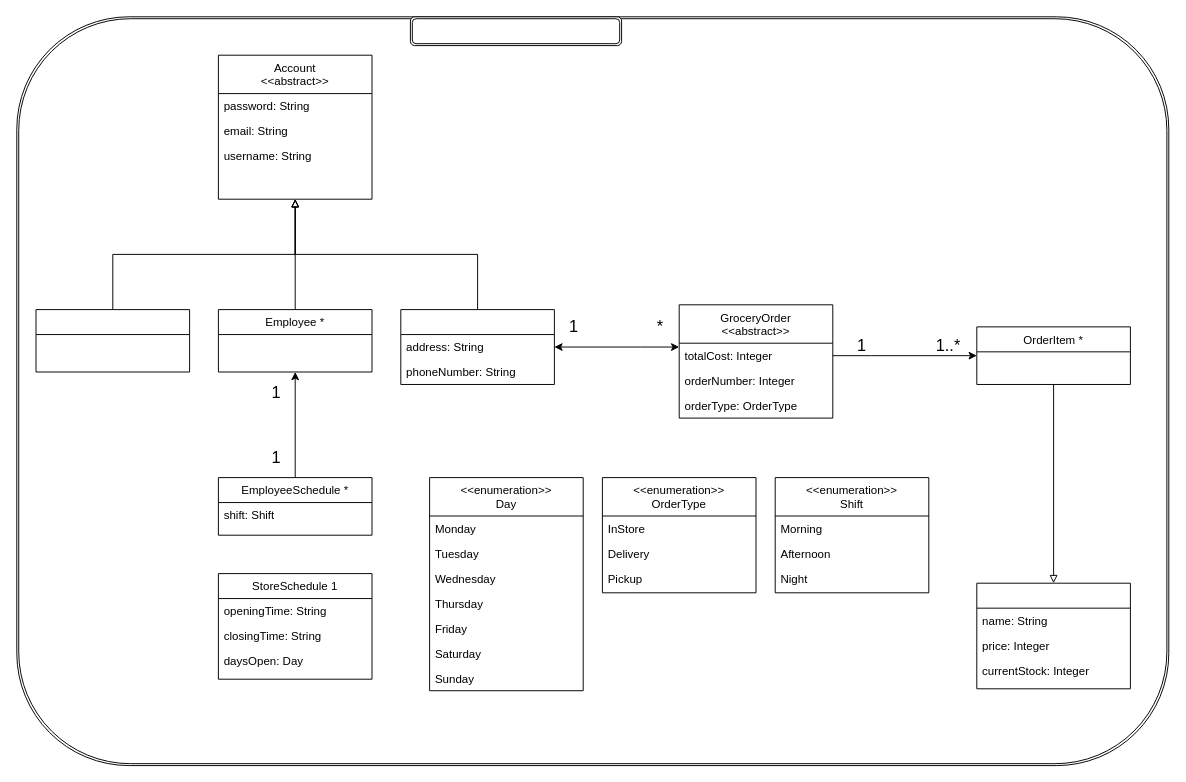
Some shapes in this 1186 by 782 pixel diagram are drawn without their labels. Here are the shapes that lost their labels. From the top down, the box of each, then its label:
(409, 16, 622, 46): GroceryStore
(35, 309, 190, 372): Owner 1
(400, 309, 554, 384): Customer *
(976, 582, 1130, 689): InventoryItem *
